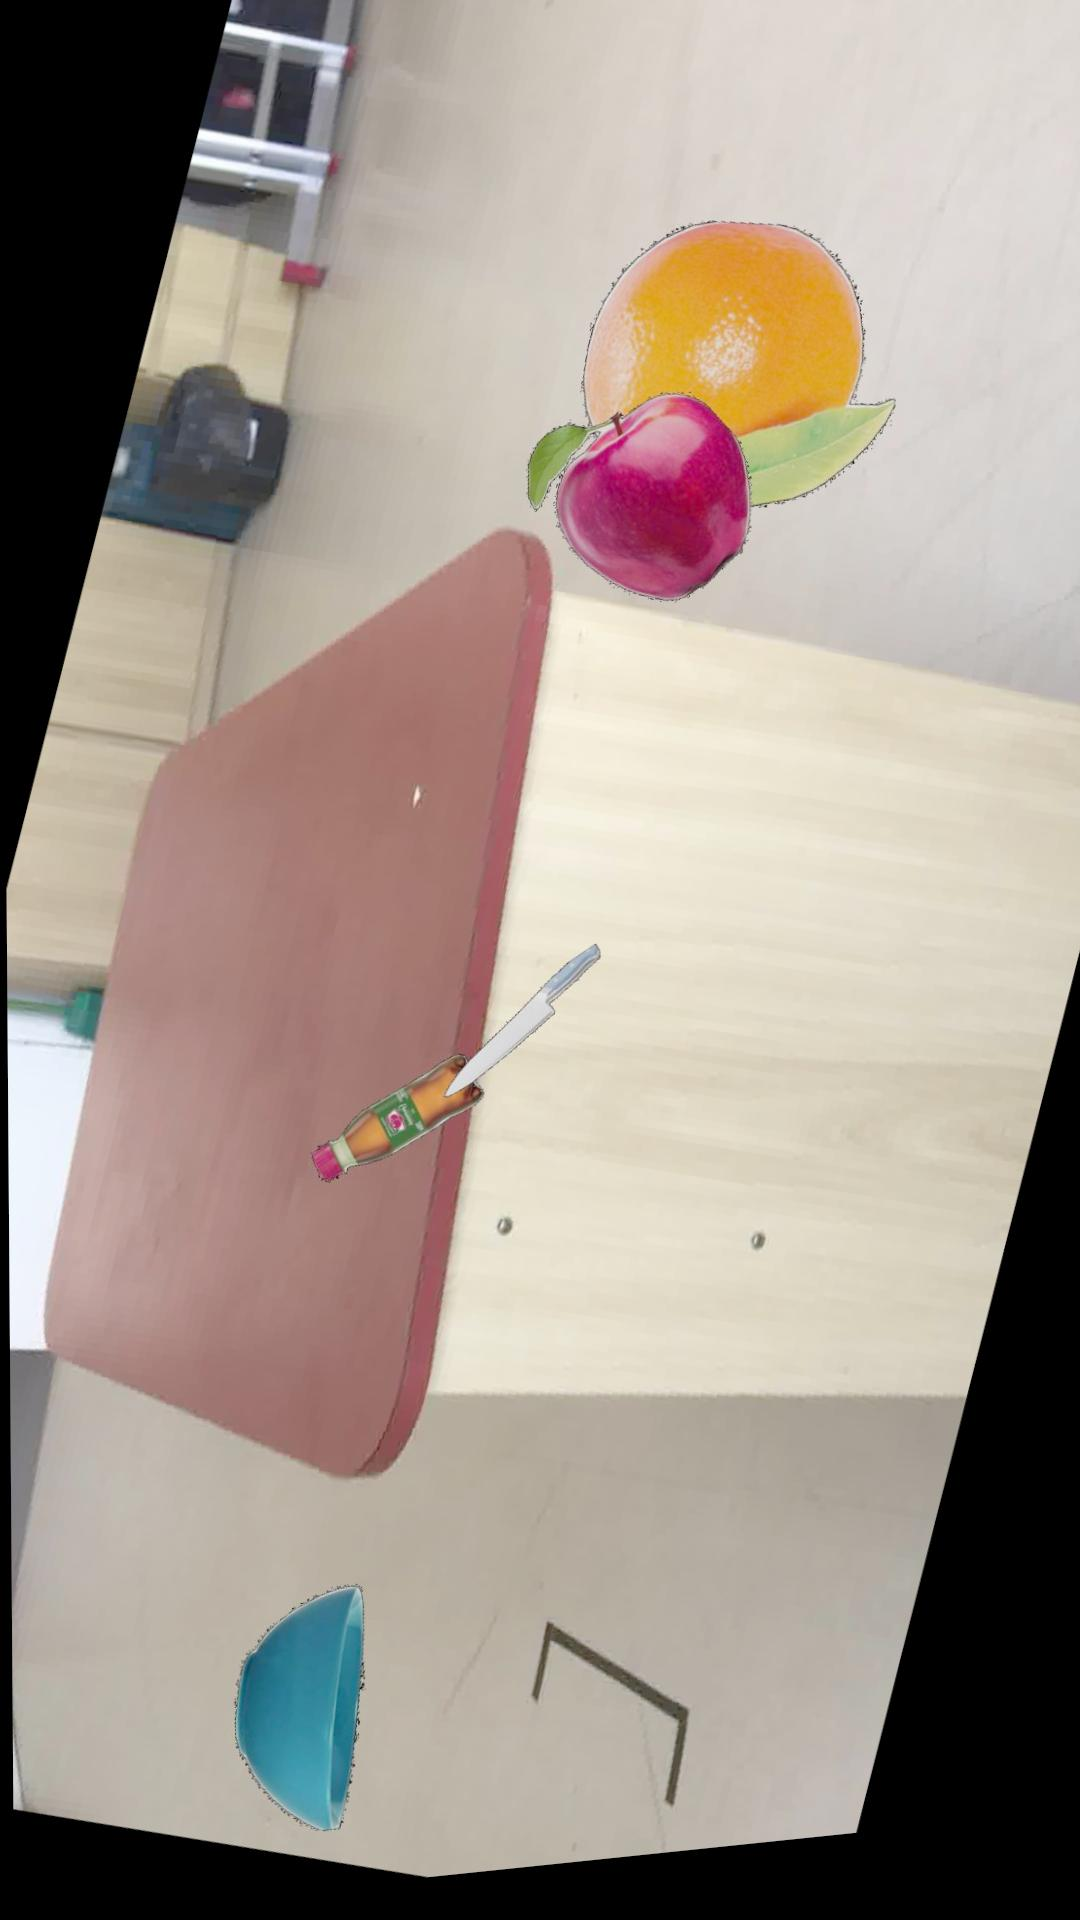apple: (529, 406, 753, 615)
bowl: (233, 1592, 364, 1837)
guarana: (311, 1063, 484, 1188)
knife: (444, 956, 600, 1105)
orange: (583, 235, 897, 522)
